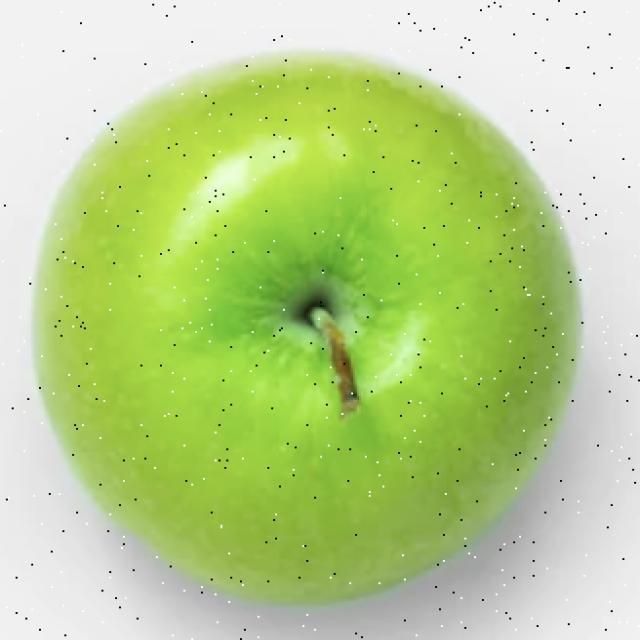Apple: (31, 48, 583, 606)
